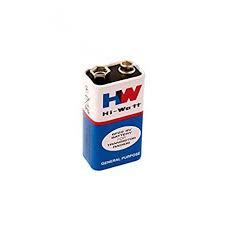9V: (81, 58, 145, 170)
